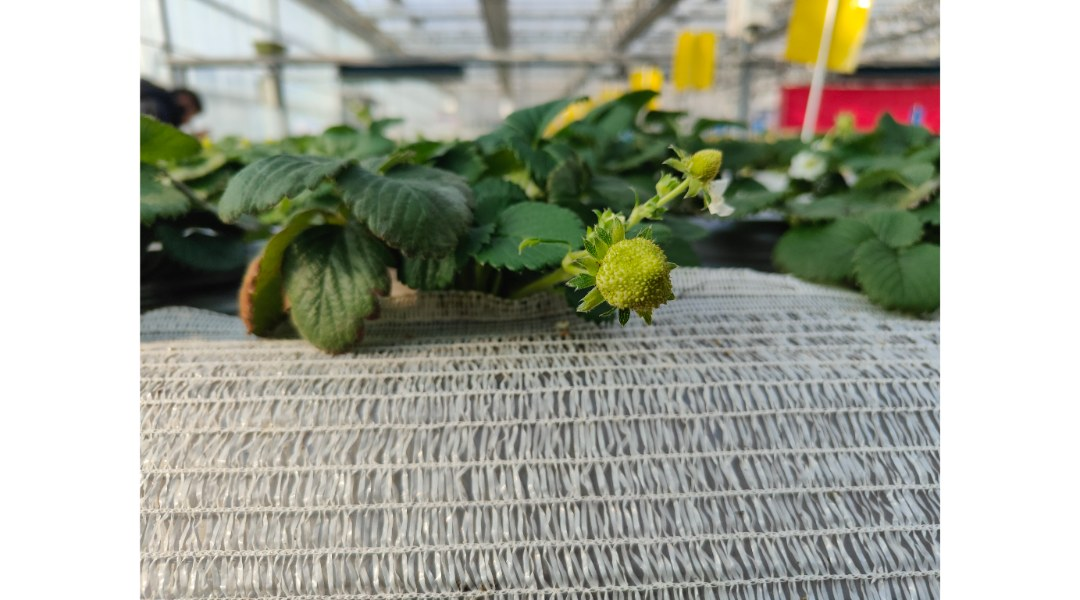berry: (573, 229, 691, 321), (647, 128, 743, 210)
